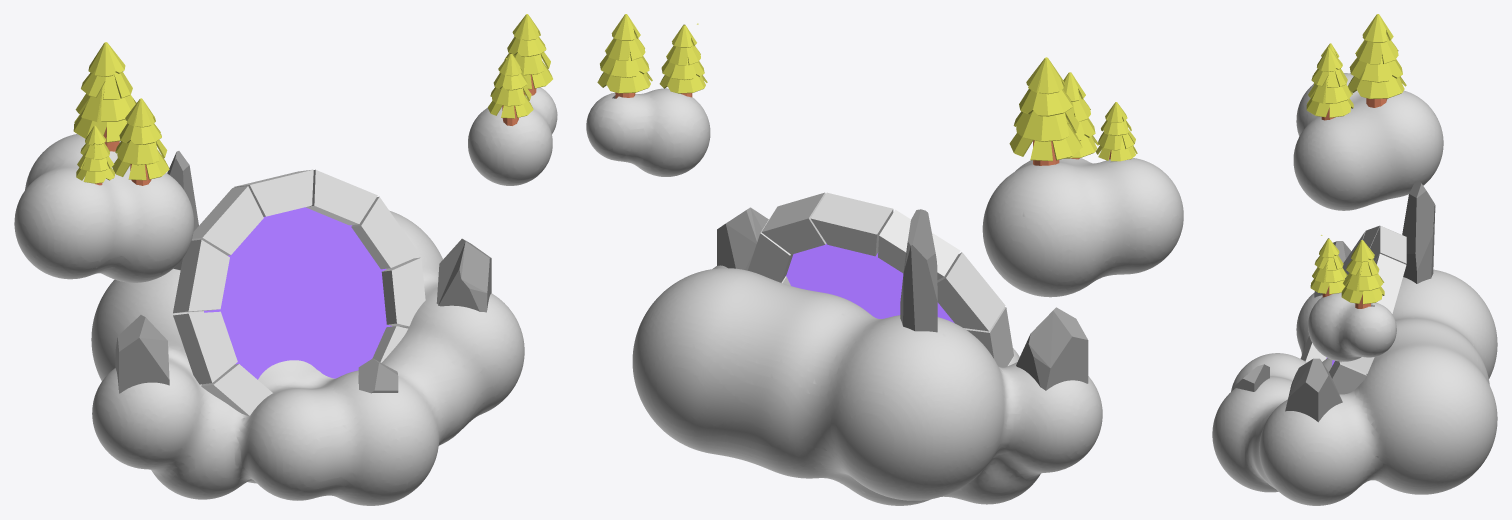
Rendered from cloudPortal.glb.
The picture shows the model from 3 angles, left to right: view 1: azimuth 30°, elevation 25°; view 2: azimuth 150°, elevation 25°; view 3: azimuth 270°, elevation 25°; orthographic projection. The views are drawn at different scales.
Visible parts, largest first — view 1: Cube.046, portalLight; view 2: Cube.046, portalLight; view 3: Cube.046.
Part boxes in pixels (<box>): Cube.046: <box>14,14,557,505</box>; portalLight: <box>204,207,391,379</box>; Cube.046: <box>586,14,1183,505</box>; portalLight: <box>786,243,954,322</box>; Cube.046: <box>1212,14,1497,505</box>.
Bounding box in the file's own units: 38.89 × 31.62 × 20.77.
